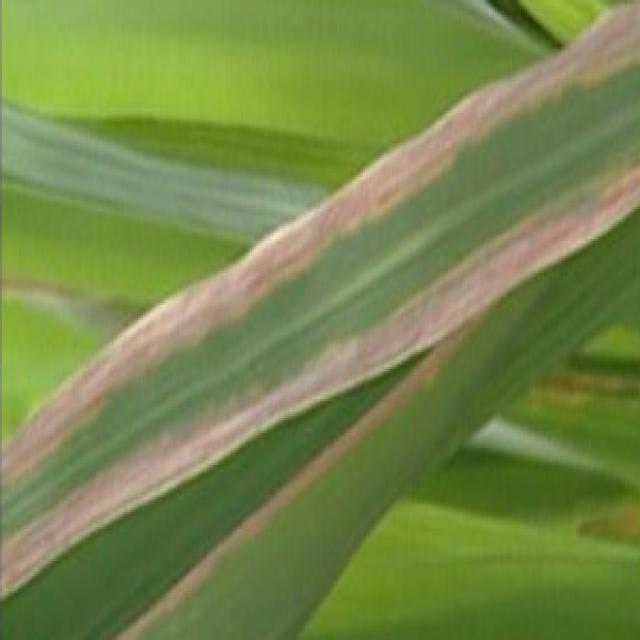Rice: (434, 64, 537, 186), (4, 470, 108, 588), (330, 126, 434, 243), (536, 0, 640, 110), (363, 270, 466, 376), (66, 312, 158, 424), (242, 202, 333, 311), (462, 217, 557, 320), (157, 259, 244, 366), (272, 327, 368, 418), (0, 380, 83, 480), (556, 164, 636, 262), (110, 426, 195, 516), (192, 382, 279, 464)
